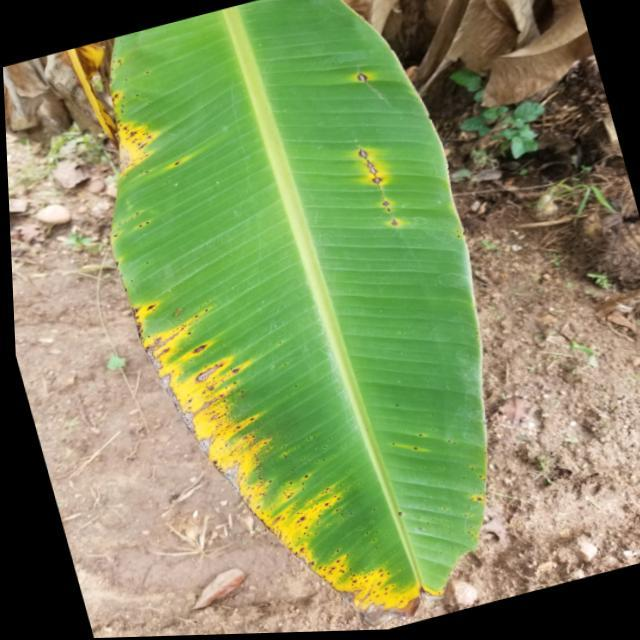Early_rust: (70, 32, 478, 640)
